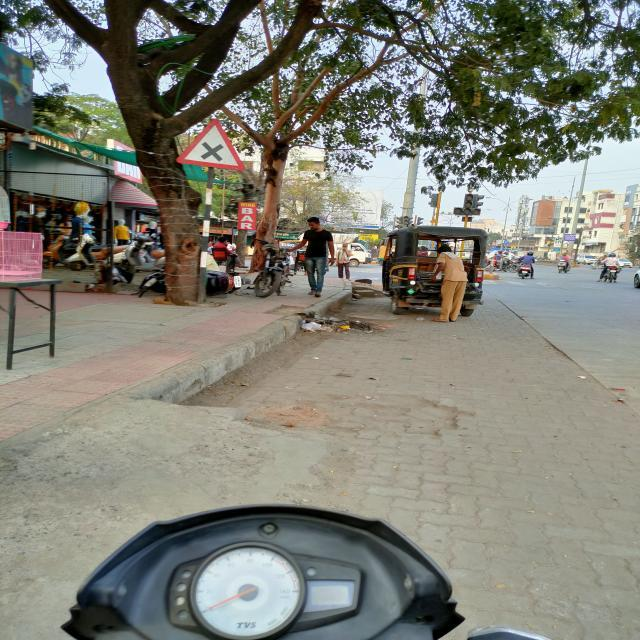cross road: (174, 116, 247, 173)
